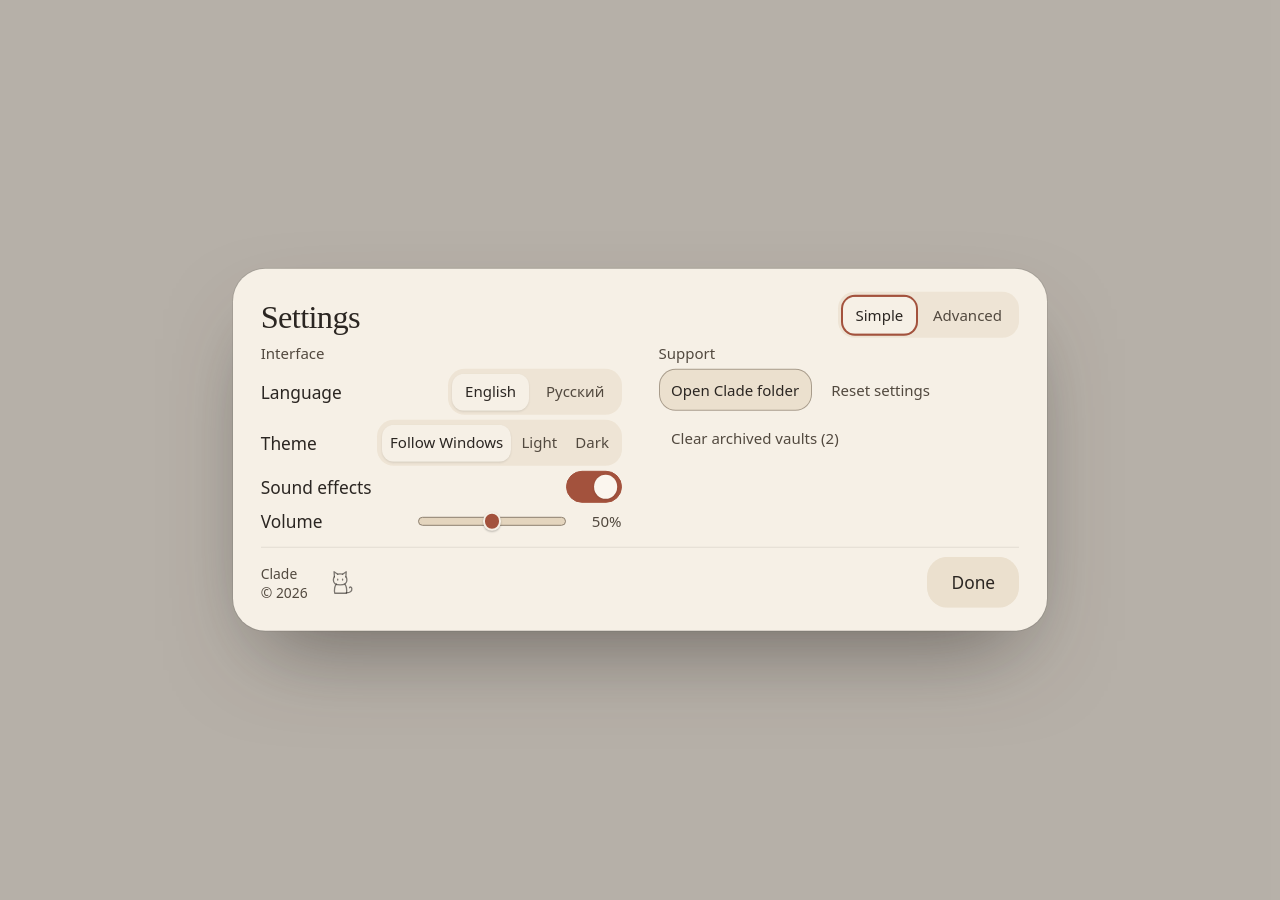
Scenario: Clearing archived vaults in Settings › asks first, locks Done and blocks Escape/backdrop dismissal, cancels with Keep archives restoring focus, then deletes permanently
Later steps or results of the test are not shown.
Click the button "Clear archived vaults (2)" at (755, 438), box [658,418,851,459]
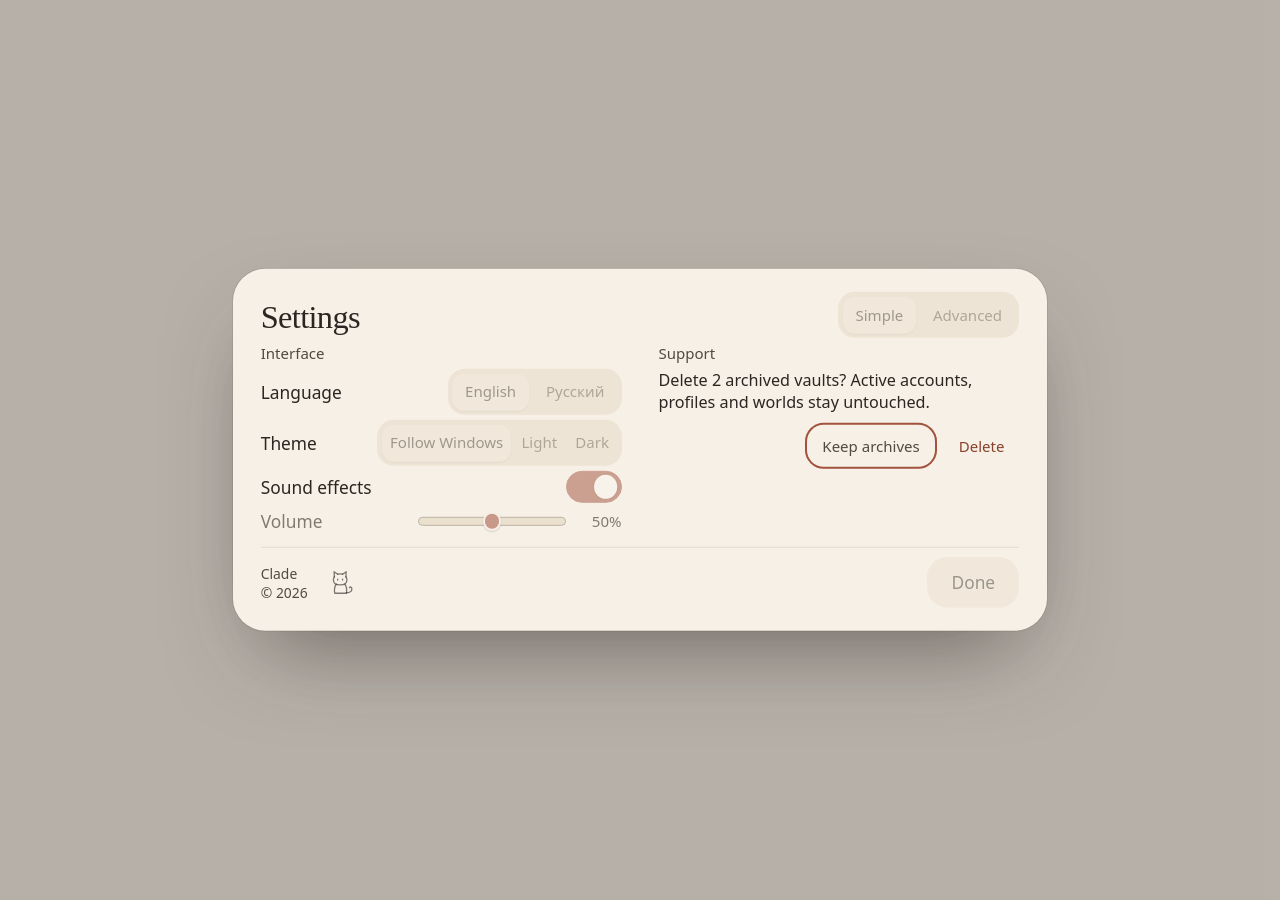
Result: the message shows "Delete 2 archived vaults?" at [658,369,972,413]
Result: the button "Done" is disabled at [927,557,1019,608]
